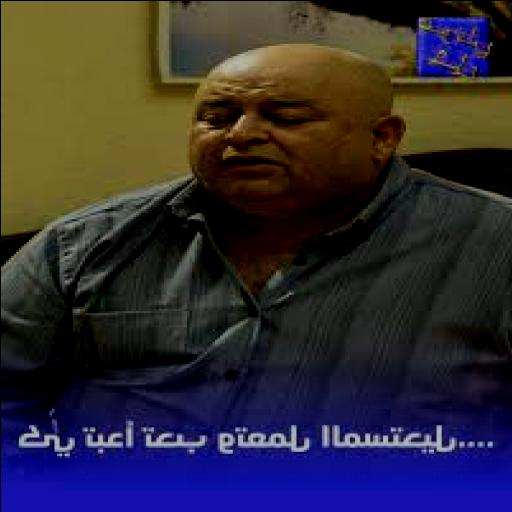sboui: (186, 44, 405, 227)
